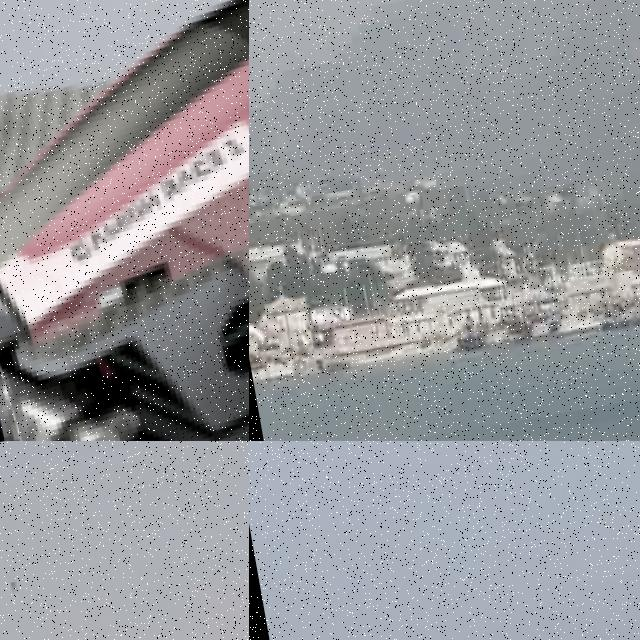drone: (0, 0, 249, 441)
